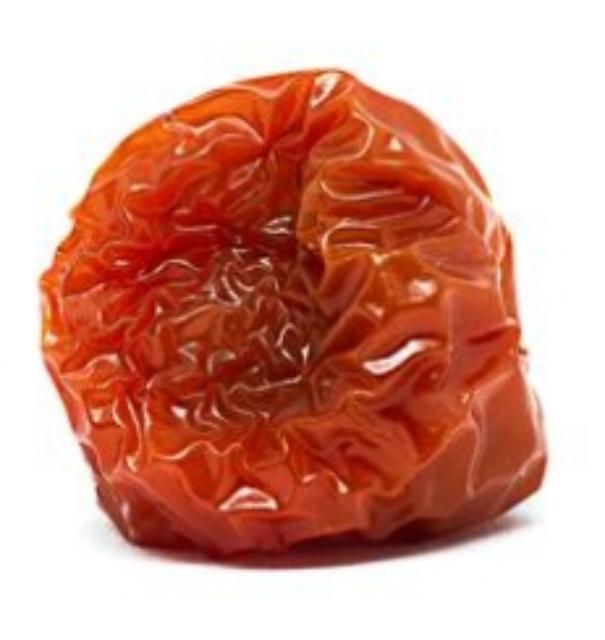defect: (29, 55, 560, 589)
